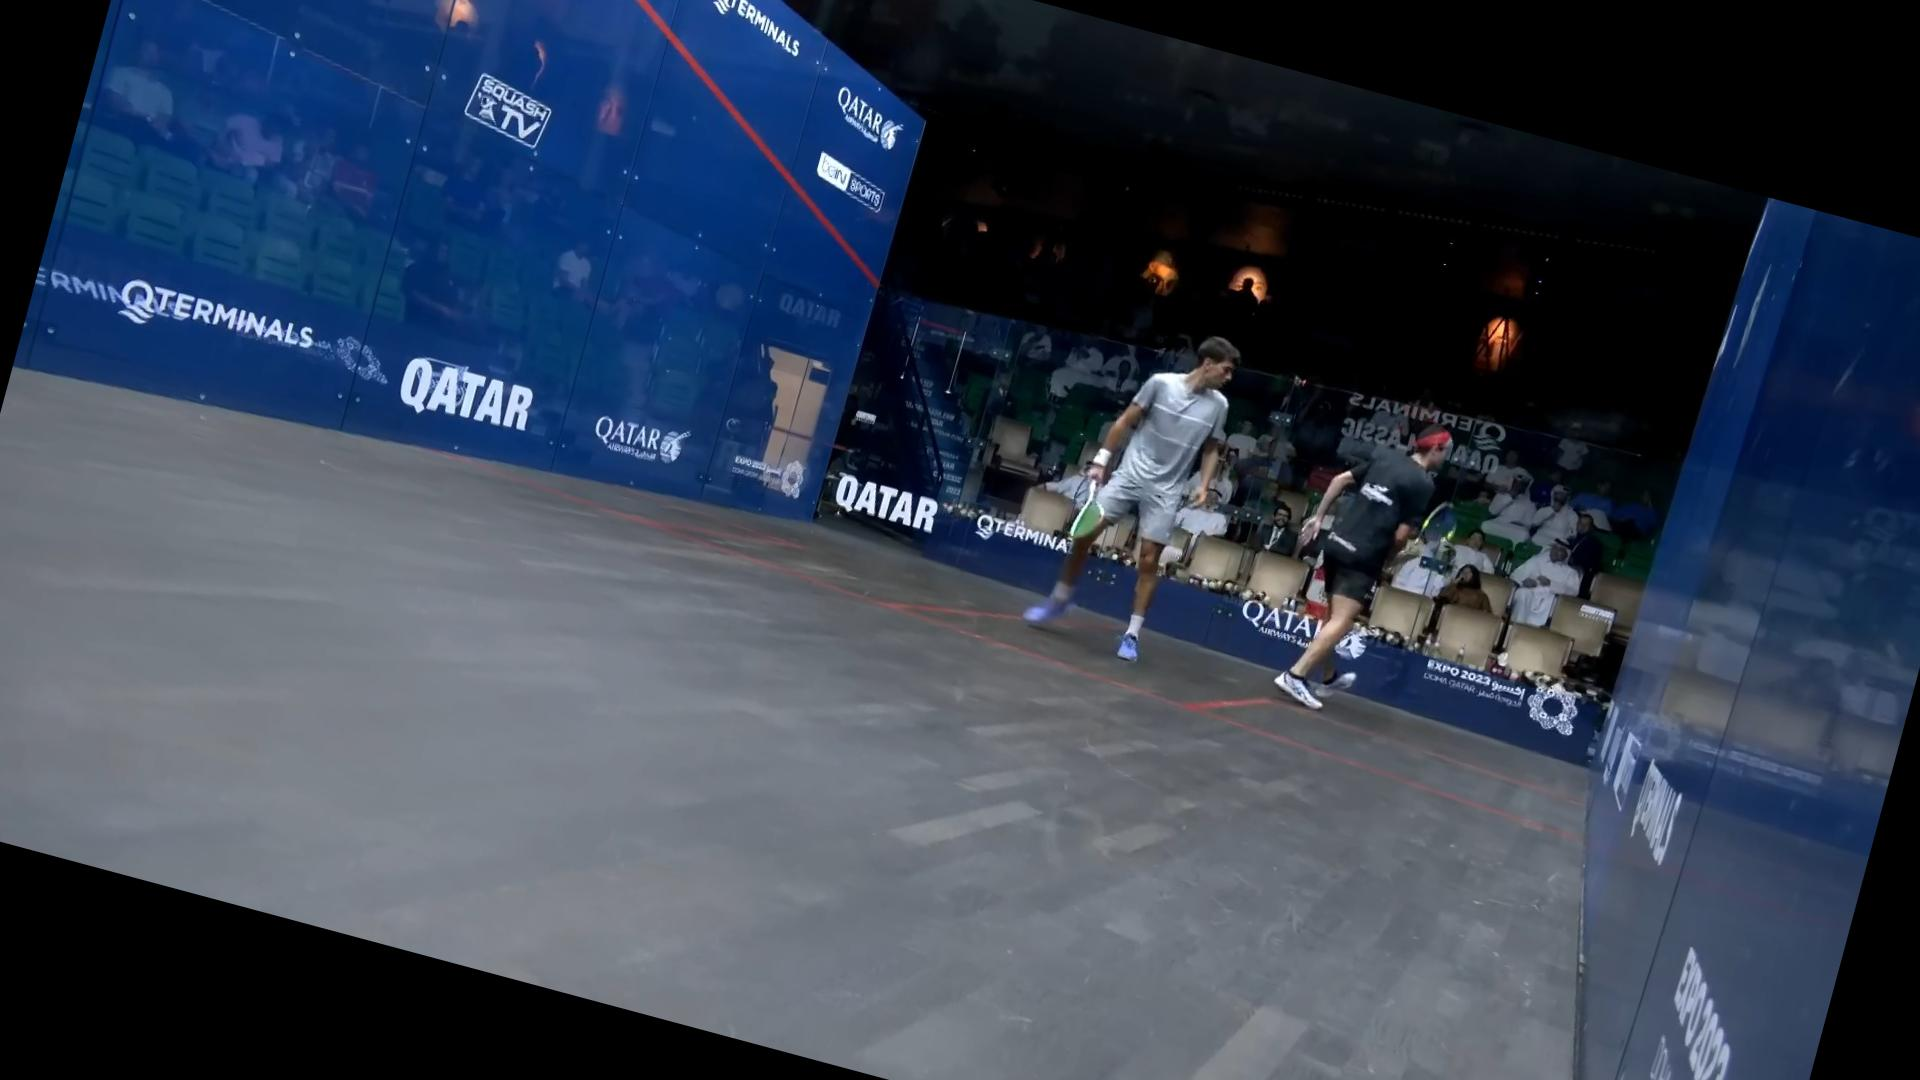Racket: (1400, 492, 1466, 571), (1062, 472, 1117, 551)
